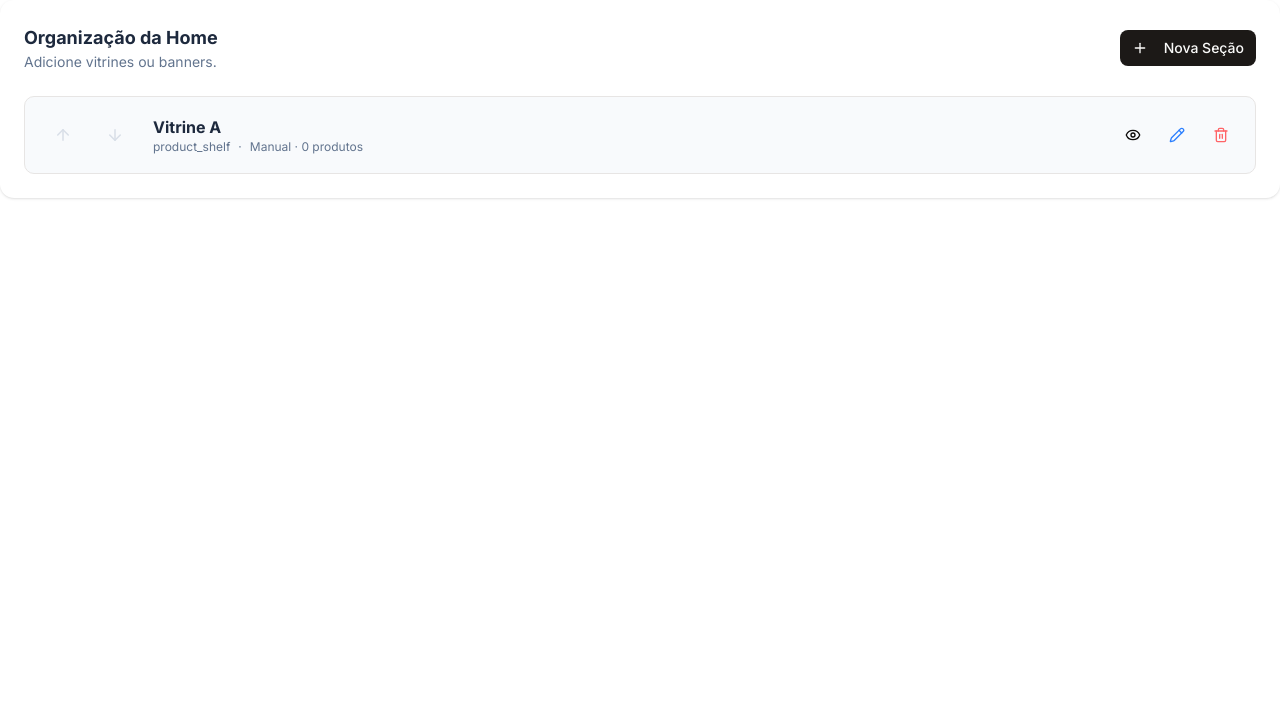
Test: SectionsTab › exclusão de vitrine › não remove a seção ao clicar na lixeira — só abre a confirmação
The width and height of the screenshot is (1280, 720).
Click the 6th button.
click(1221, 135)  # box [1203,117,1239,153]
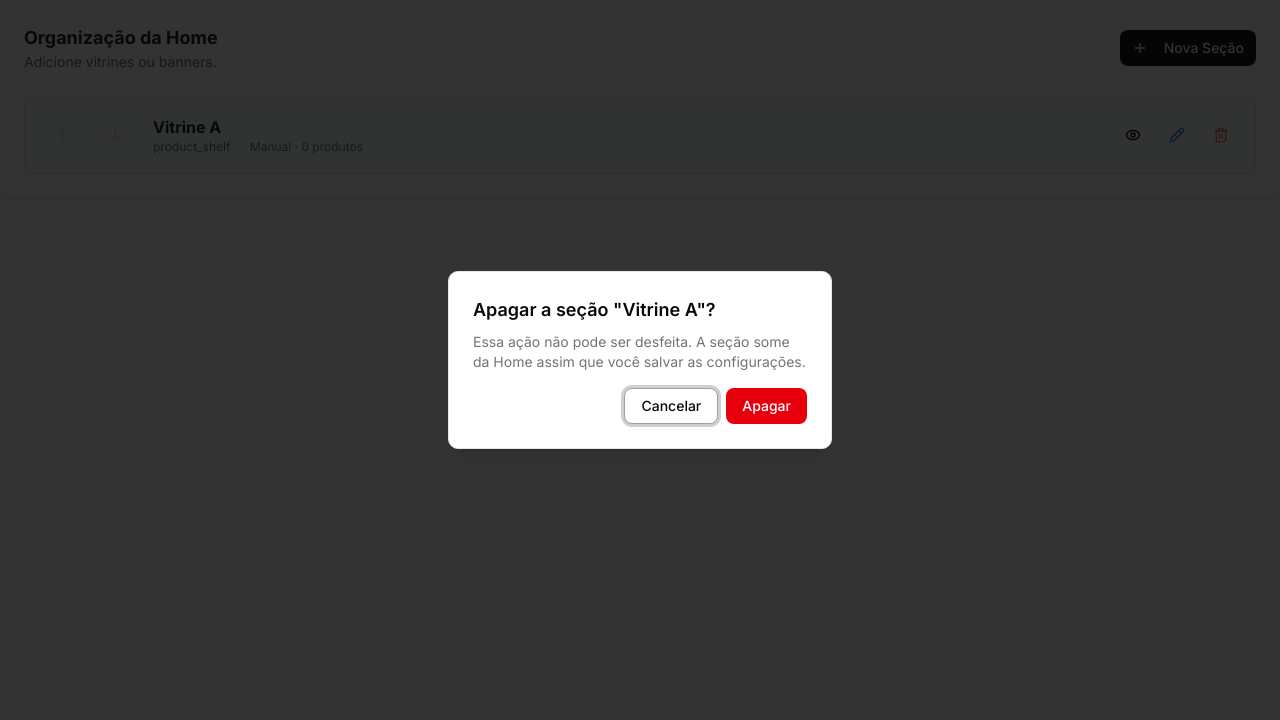
Expected: the heading "Vitrine A" is shown, [153,115,221,139]
Expected: the heading "Apagar a seção \"Vitrine A\"?" is shown, [473,299,716,320]
